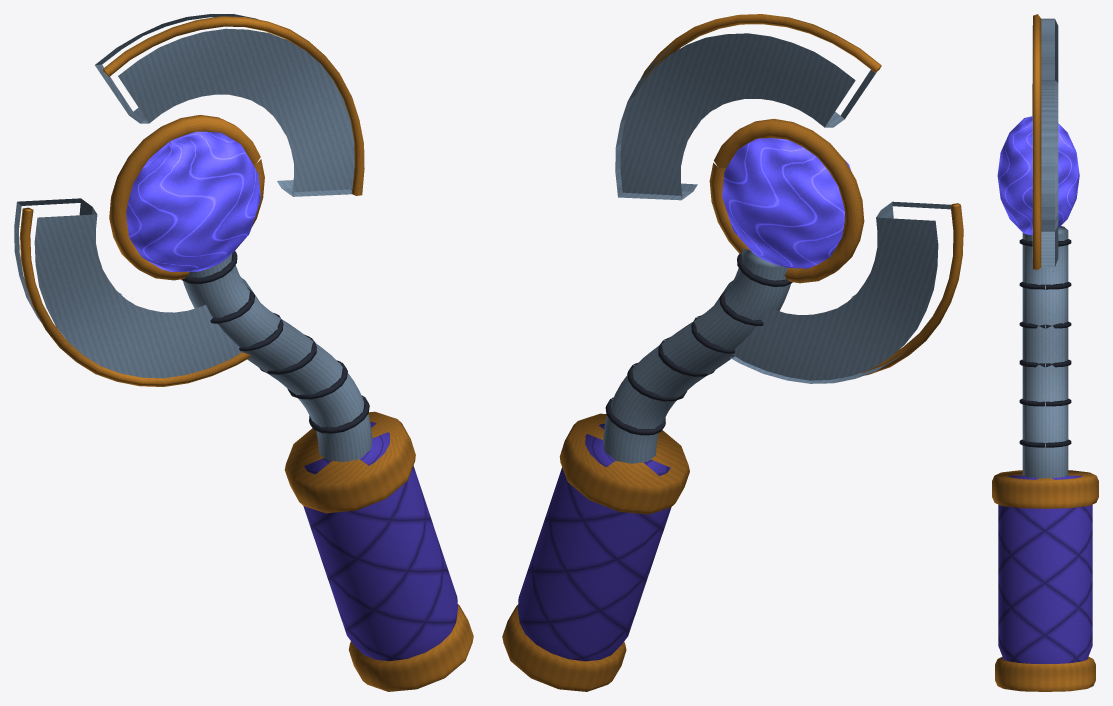
Rendered from switch_hook.glb.
3 renders of one model, left to right at view 1: azimuth 30°, elevation 25°; view 2: azimuth 150°, elevation 25°; view 3: azimuth 270°, elevation 25°, orthographic. The views are drawn at different scales.
Parts seen in each view (by area): view 1: Crescent switch jaw (×2), Violet grip, Violet hub, Flexible steel neck, Crescent gold edge (×2), Grip collar, Hub bezel, Grip base; view 2: Crescent switch jaw (×2), Violet grip, Violet hub, Flexible steel neck, Grip collar, Hub bezel, Crescent gold edge (×2), Grip base; view 3: Violet grip, Flexible steel neck, Violet hub, Crescent switch jaw, Grip collar, Grip base, Crescent gold edge, Neck seam (×5).
Part boxes in pixels (x1,y1,x2,y2): Crescent switch jaw (×2): (14, 14, 354, 378); Violet grip: (303, 422, 457, 661); Violet hub: (126, 131, 260, 271); Flexible steel neck: (183, 253, 372, 462); Crescent gold edge (×2): (20, 16, 364, 386); Grip collar: (284, 411, 415, 513); Hub bezel: (109, 115, 264, 280); Grip base: (348, 604, 473, 691); Crescent switch jaw (×2): (615, 33, 951, 383); Violet grip: (518, 423, 671, 661); Violet hub: (722, 138, 850, 268); Flexible steel neck: (603, 248, 790, 463); Grip collar: (559, 413, 689, 514); Hub bezel: (709, 119, 864, 283); Crescent gold edge (×2): (640, 14, 963, 375); Grip base: (502, 605, 626, 691); Violet grip: (998, 475, 1092, 663); Flexible steel neck: (1022, 226, 1068, 478); Violet hub: (997, 116, 1079, 235); Crescent switch jaw: (1032, 18, 1058, 267); Grip collar: (992, 470, 1098, 508); Grip base: (995, 656, 1095, 691); Crescent gold edge: (1033, 14, 1041, 269); Neck seam (×5): (1019, 282, 1071, 447).
Bounding box in the file's own units: 5310 × 8030 × 1344.
5 materials, 5 textured.
